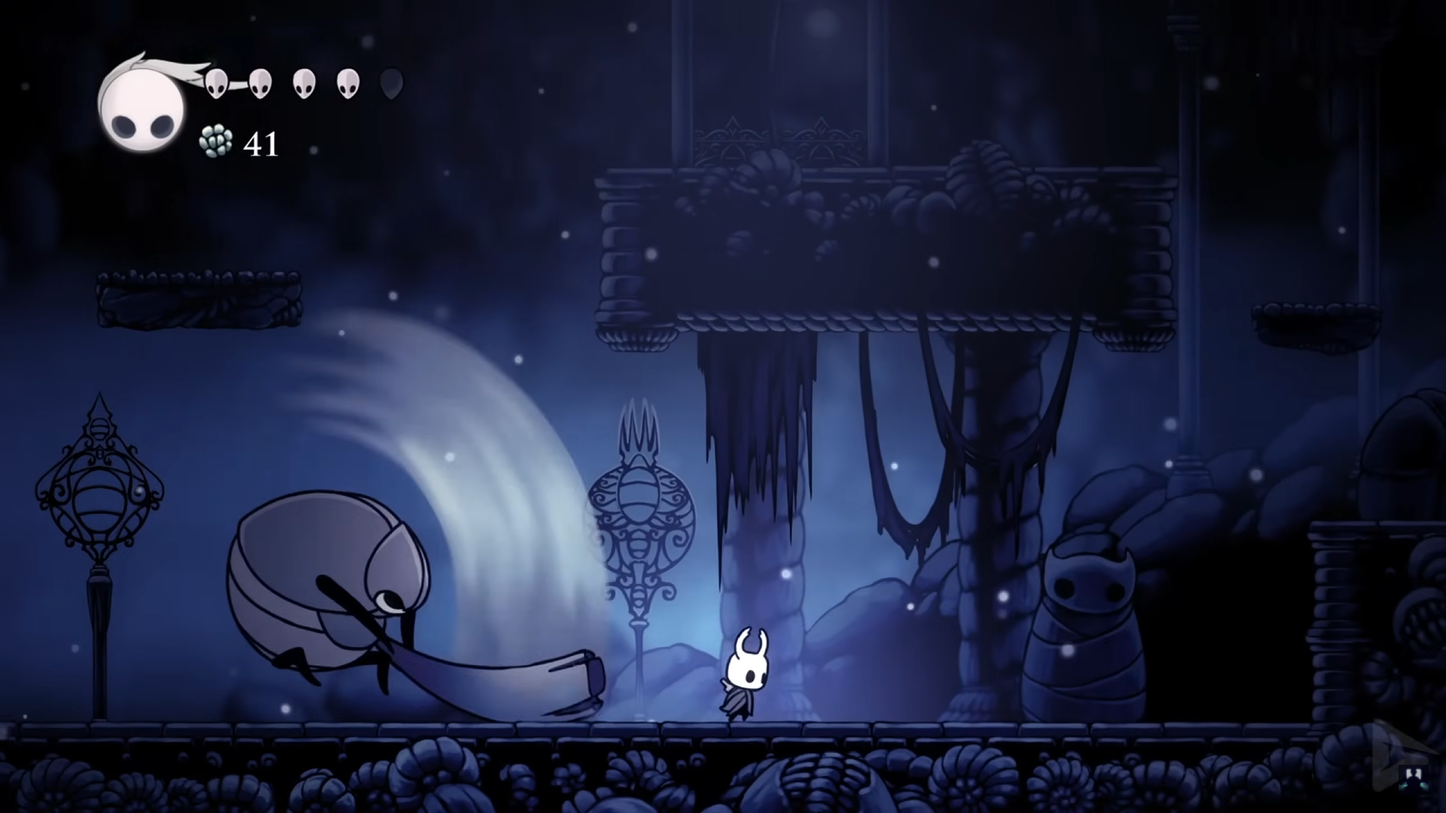HK: (713, 623, 774, 725)
